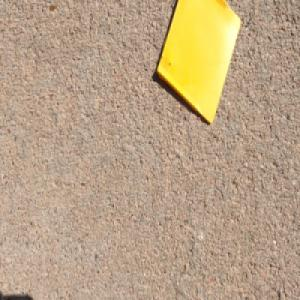PlasticPart: (155, 0, 241, 125)
